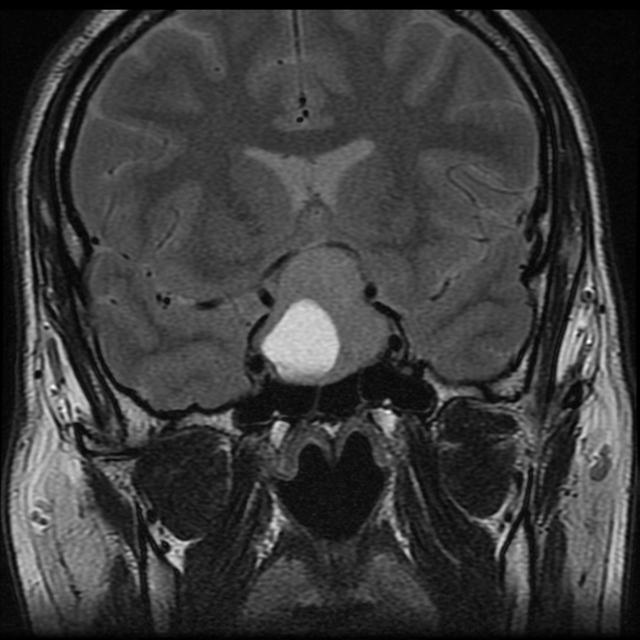brain_tumor: (264, 302, 340, 388)
